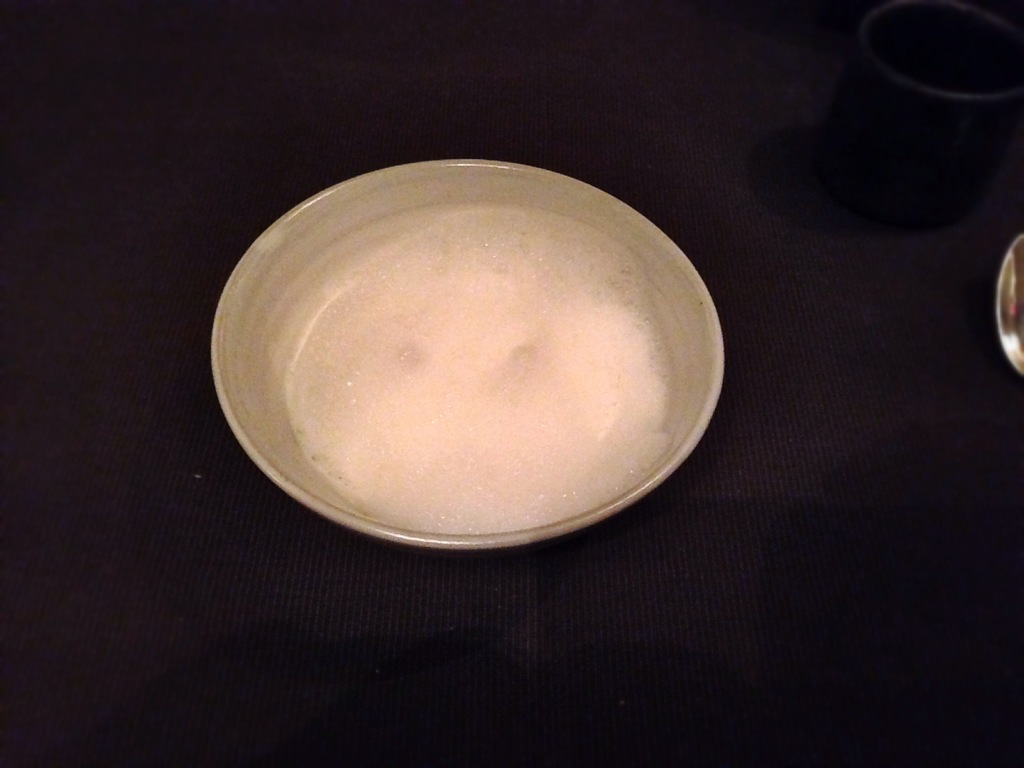plate: (210, 160, 727, 549)
